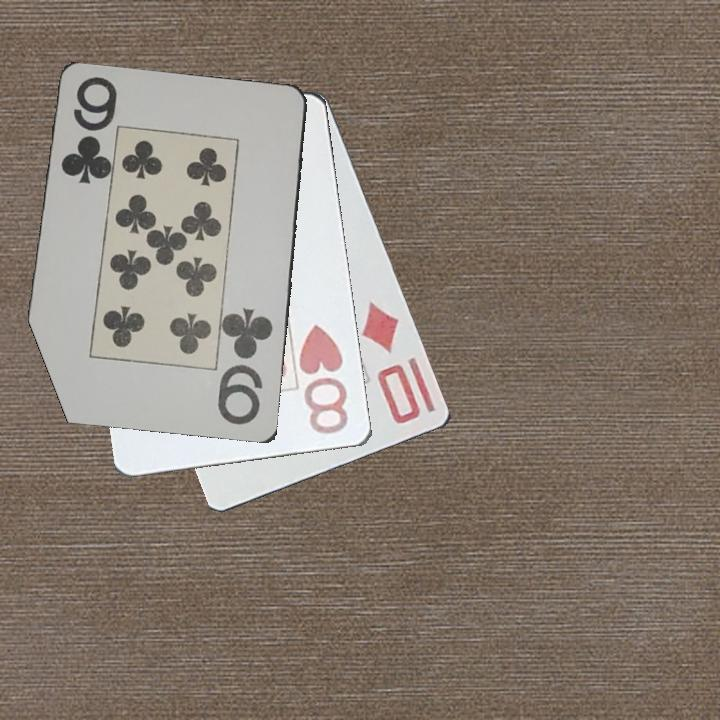8h: (297, 321, 352, 438)
9c: (215, 304, 276, 429), (57, 74, 115, 188)
Td: (358, 297, 424, 427)
